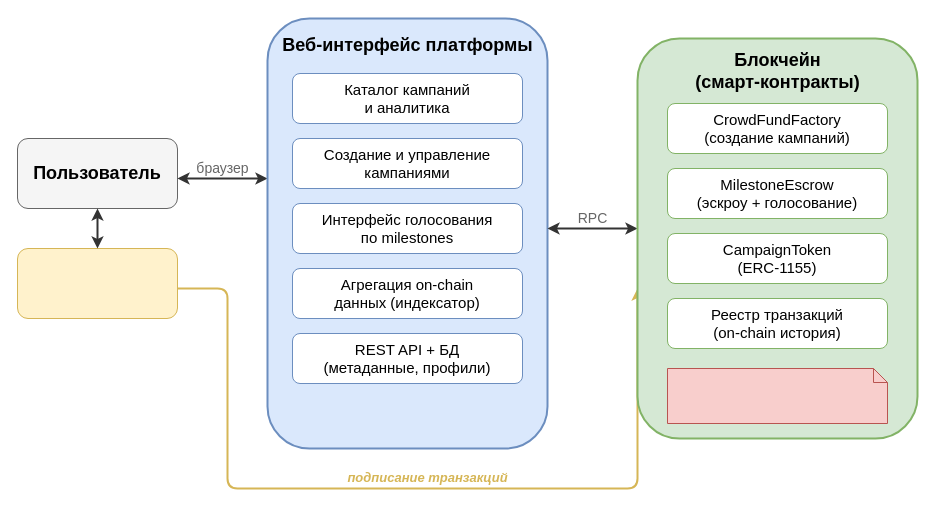
Some shapes in this 936 by 514 pixel diagram are drawn without their labels. The centre of each missing label's shape, as x and y in pixels:
"Кошелёк (MetaMask / WalletConnect)" goes at point 97,283.
"Платформа не хранит средства: все активы на смарт-контракте" goes at point 777,396.
